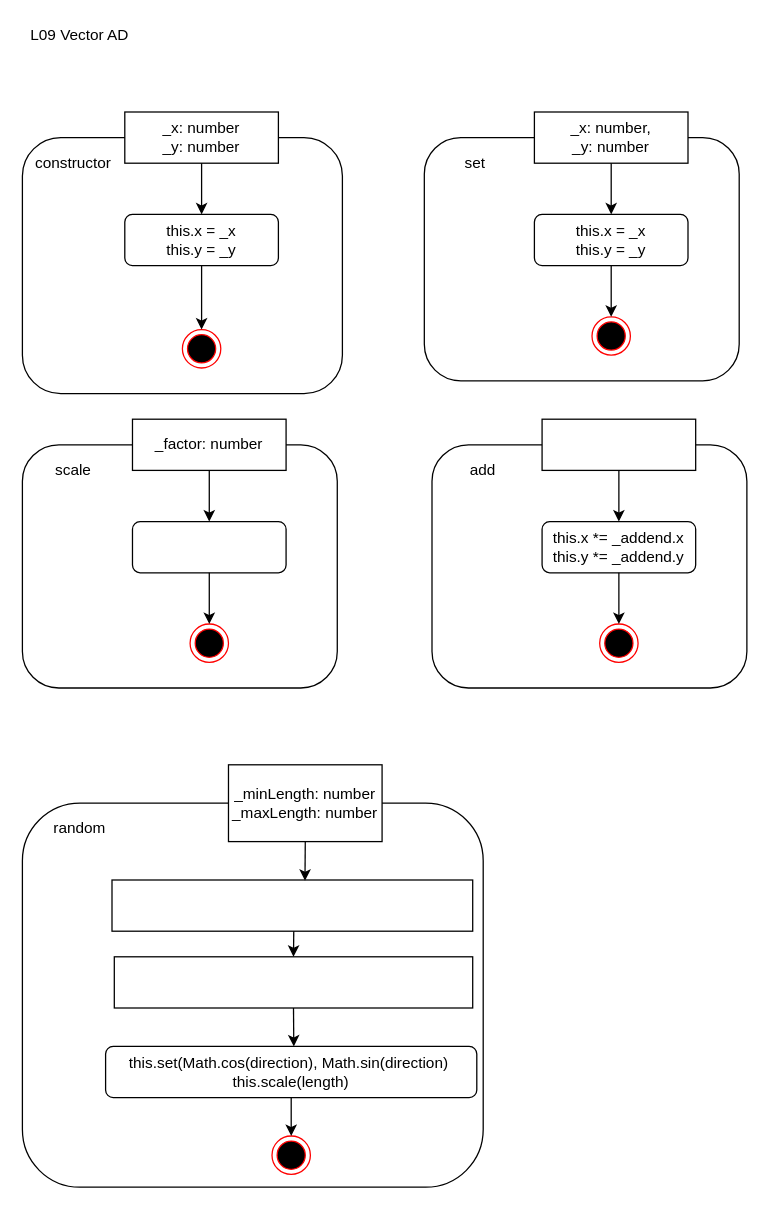
This 769x1210 diagram has some shape labels left out. Here are the shapes that lost their labels. From the top down, the centre of each, then its label:
the point at 618,444: _addend: number
the point at 208,546: this.x *= _factor this.y *= _factor
the point at 292,905: length: number = _minLength + Math.random() * (_maxLength - _minLength)
the point at 293,982: direction: number = Math.random() * 2 * Math.PI
